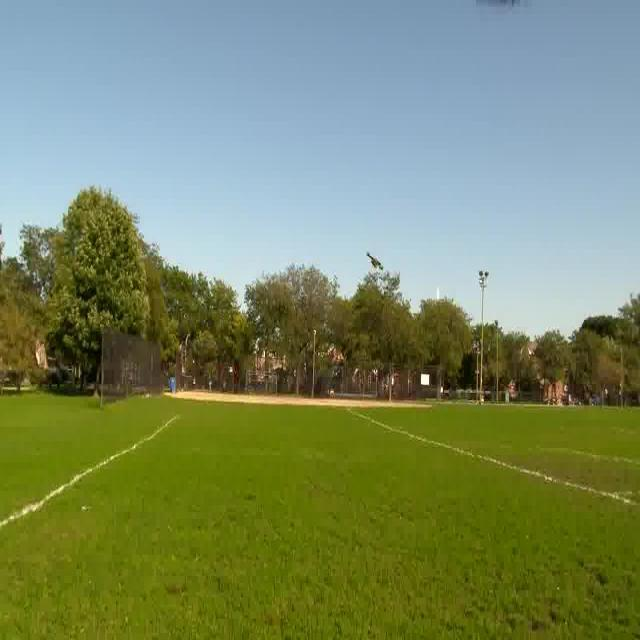drones: (353, 243, 392, 284)
